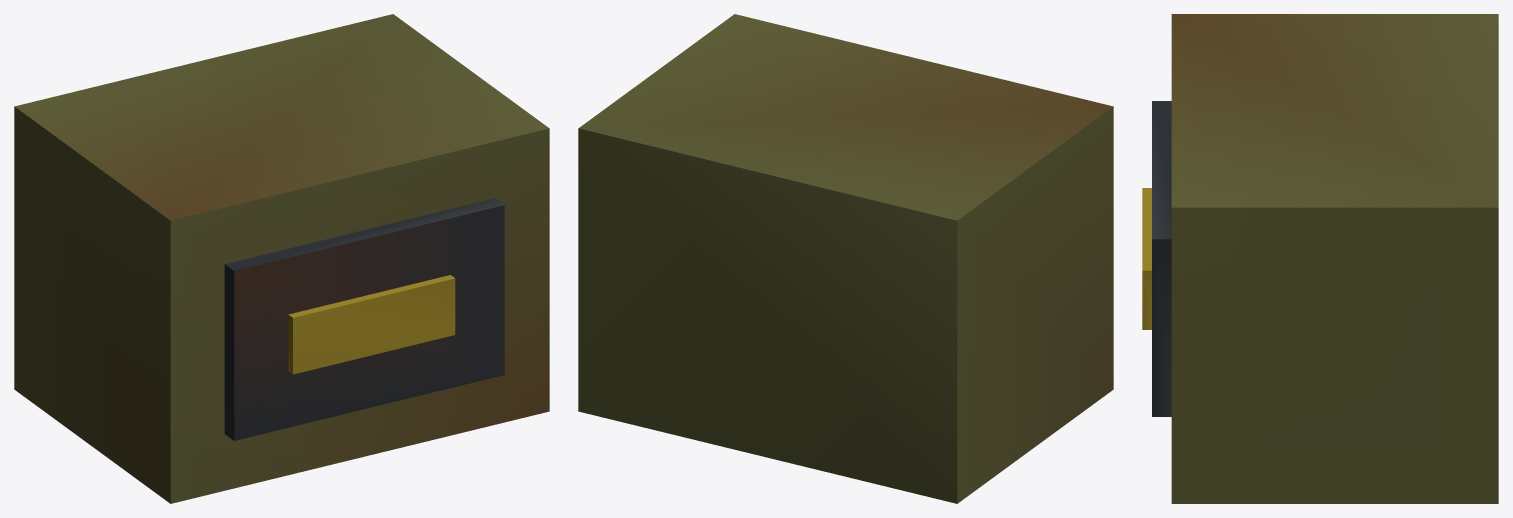
Rendered from ammo.glb.
3 views of the same model, side by side, from view 1: azimuth 30°, elevation 25°; view 2: azimuth 150°, elevation 25°; view 3: azimuth 270°, elevation 25° (orthographic). The views are drawn at different scales.
Parts seen in each view (by area): view 1: ammo; view 2: ammo; view 3: ammo.
Boxes of the visible parts, box(x1,y1,x2,y2) form: ammo: box(14, 14, 549, 503); ammo: box(578, 14, 1113, 503); ammo: box(1142, 14, 1498, 503).
Size of the model in its own units: 14 by 10 by 10.9.
